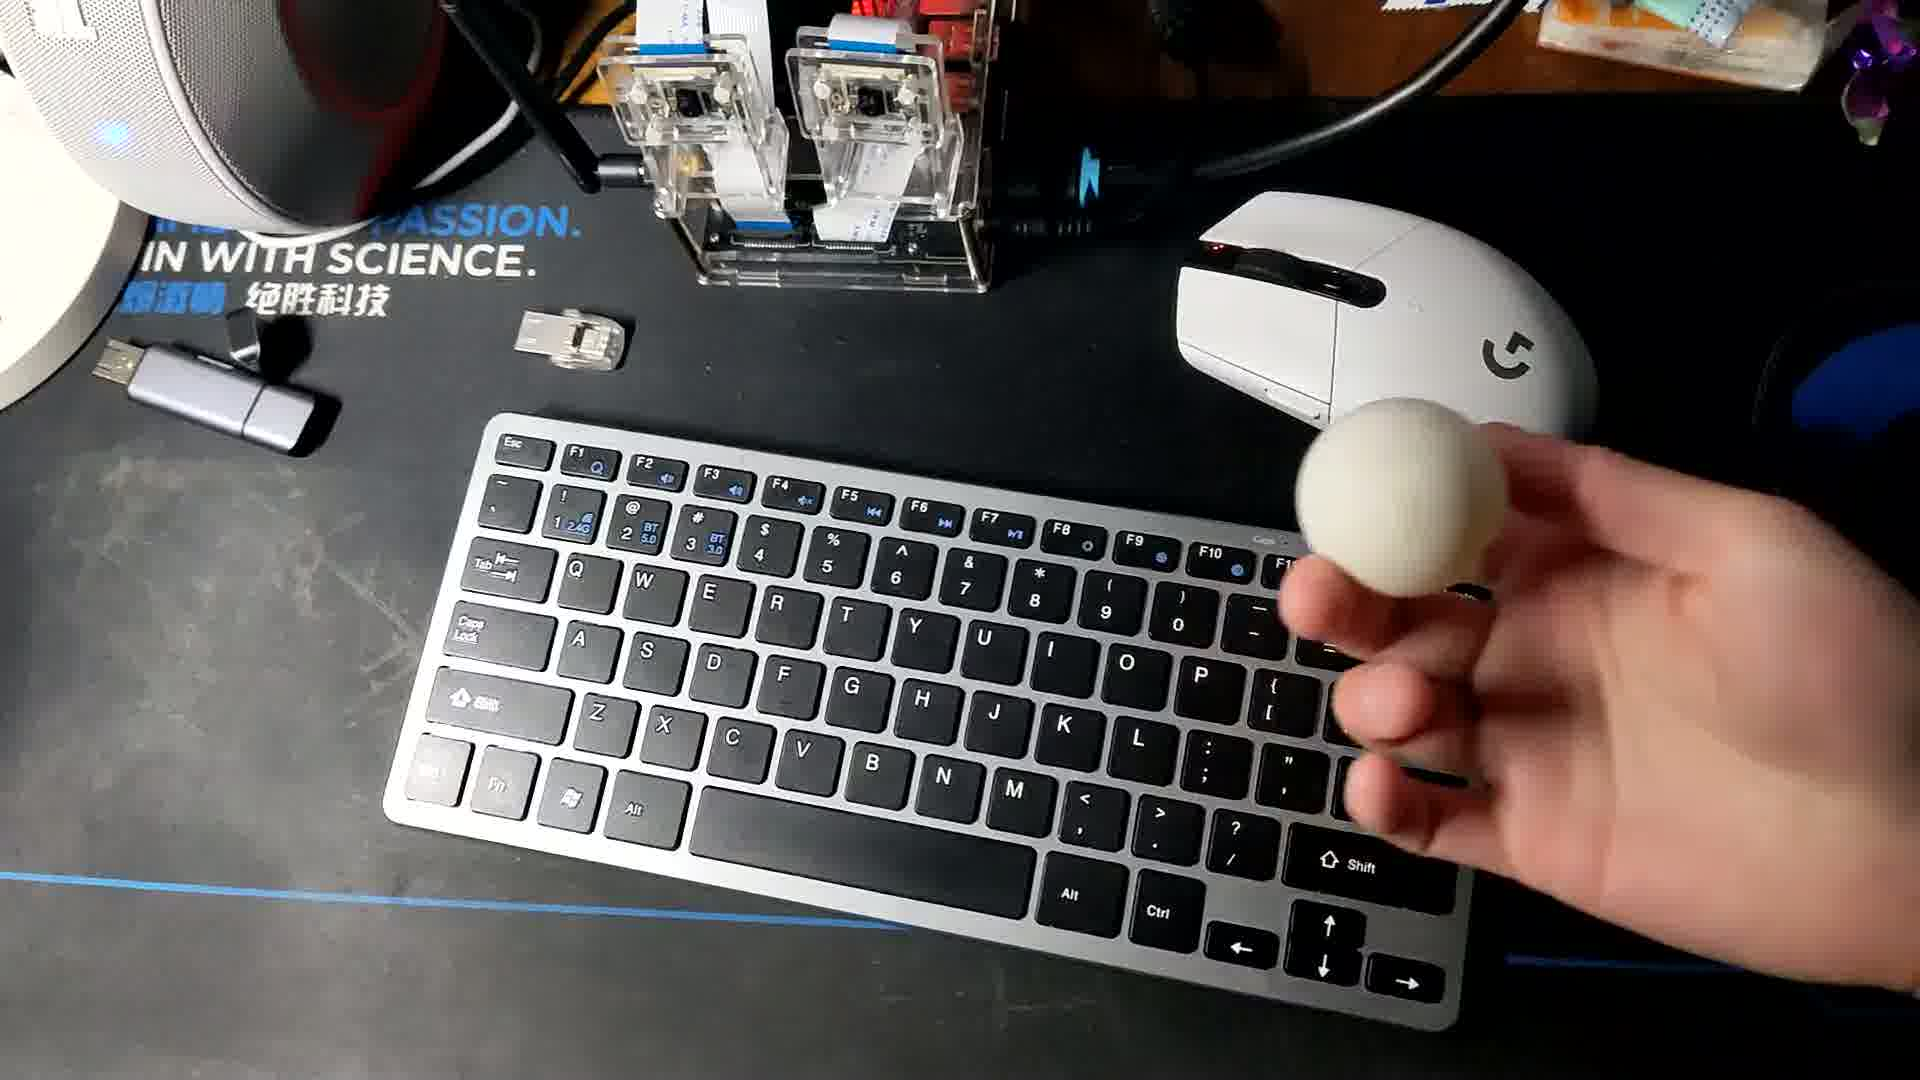Ball: (1284, 400, 1506, 615)
